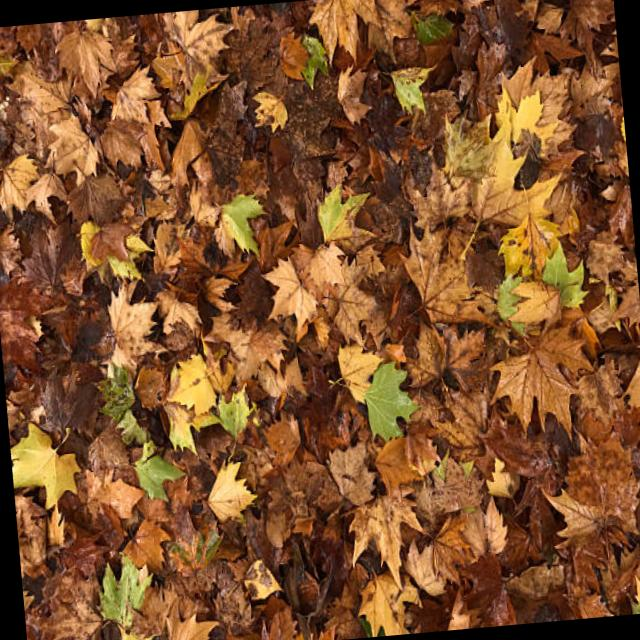paper: (7, 408, 124, 512), (264, 234, 329, 344), (96, 550, 172, 640), (352, 360, 426, 448), (36, 115, 96, 207), (196, 462, 254, 542)
